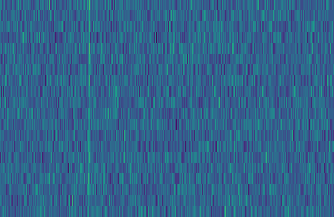signal: (82, 0, 92, 217)
